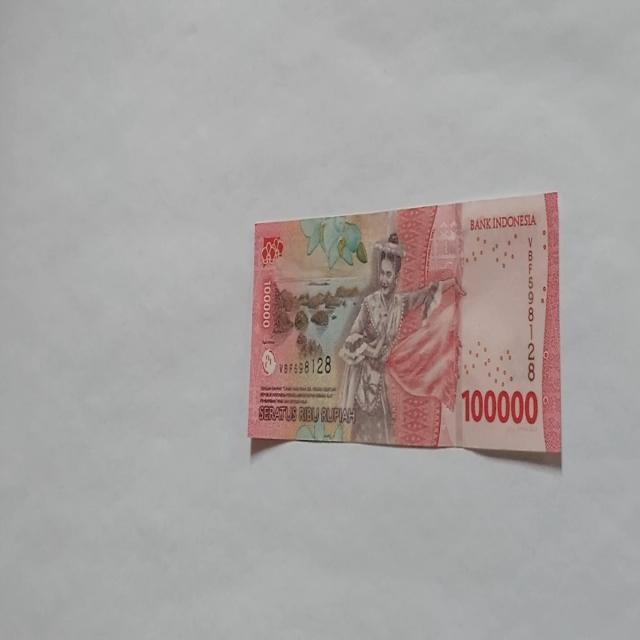seratus ribu rupiah: (246, 190, 562, 464), (335, 231, 447, 445)
